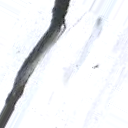crackTip: (1, 1, 72, 127)
